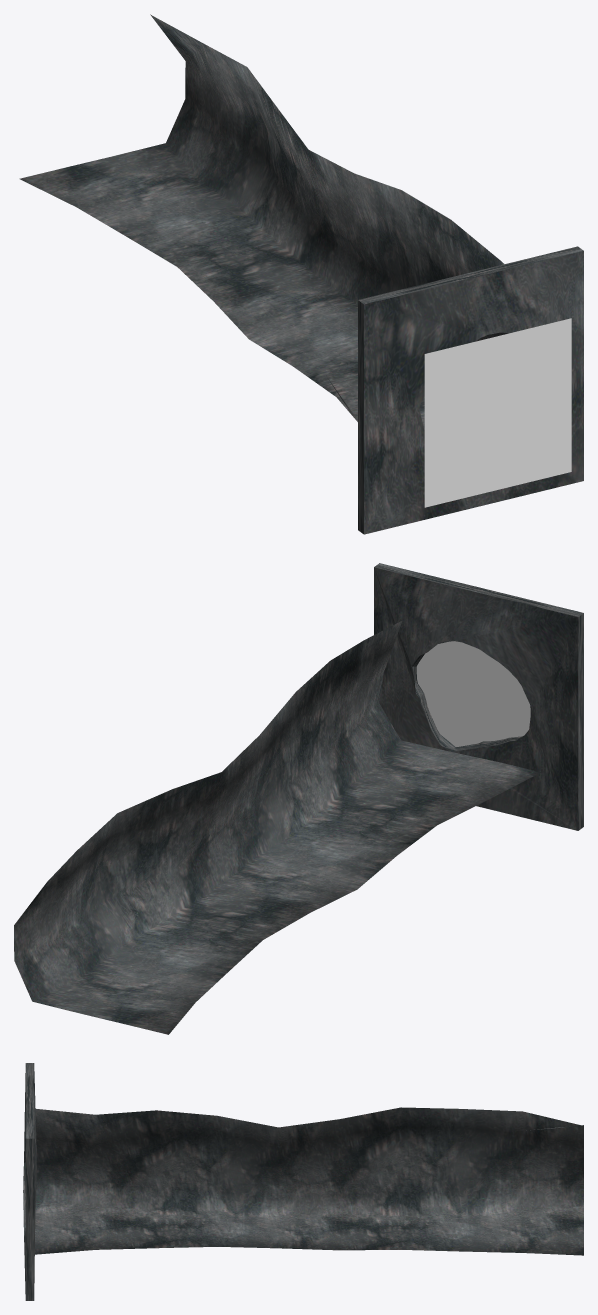
The picture shows the model from 3 angles, top to bottom: view 1: azimuth 30°, elevation 25°; view 2: azimuth 150°, elevation 25°; view 3: azimuth 270°, elevation 25°; orthographic projection. The views are drawn at different scales.
Parts seen in each view (by area): view 1: Cube, Cube.001, Plane; view 2: Cube, Cube.001, Plane; view 3: Cube, Cube.001.
Part boxes in pixels (x1,y1,x2,y2): Cube: [19, 14, 507, 429]; Cube.001: [358, 246, 583, 534]; Plane: [424, 318, 571, 507]; Cube: [14, 621, 540, 1034]; Cube.001: [374, 563, 583, 830]; Plane: [416, 641, 530, 746]; Cube: [35, 1107, 583, 1255]; Cube.001: [23, 1063, 36, 1300].
Size of the model in its own units: 17.87 by 17.87 by 56.89.
Materials: 2 (1 with a texture image).
